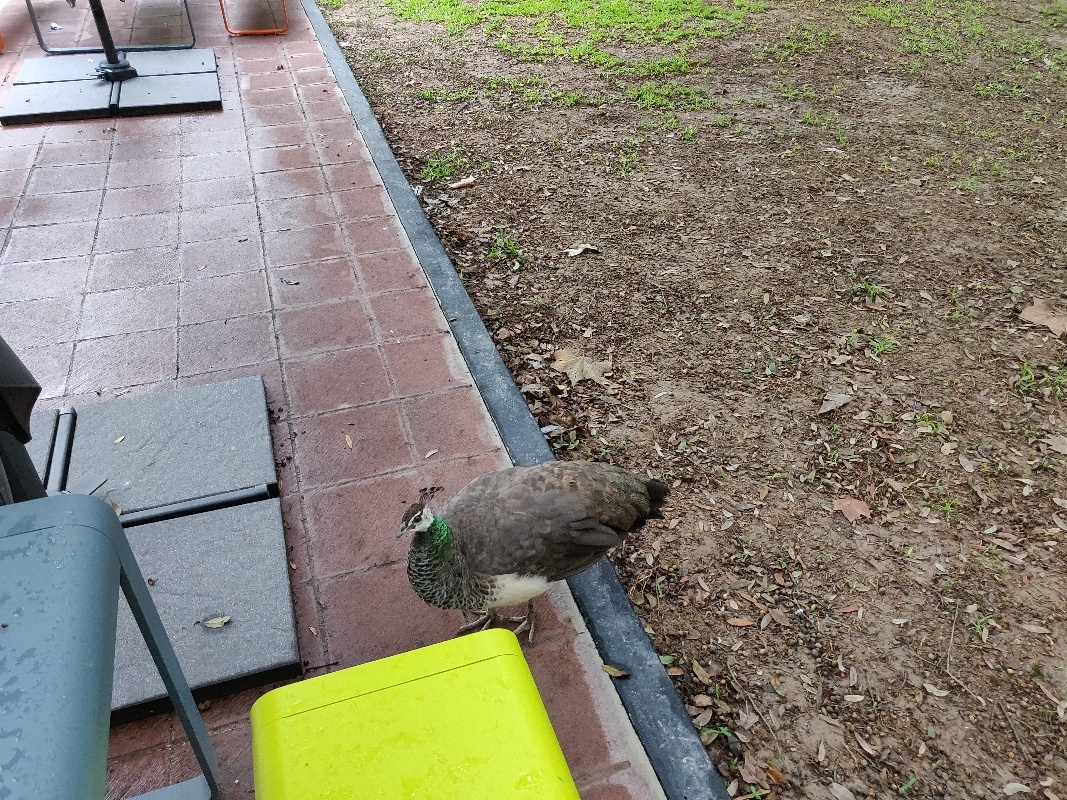pavoreal: (385, 464, 660, 618)
